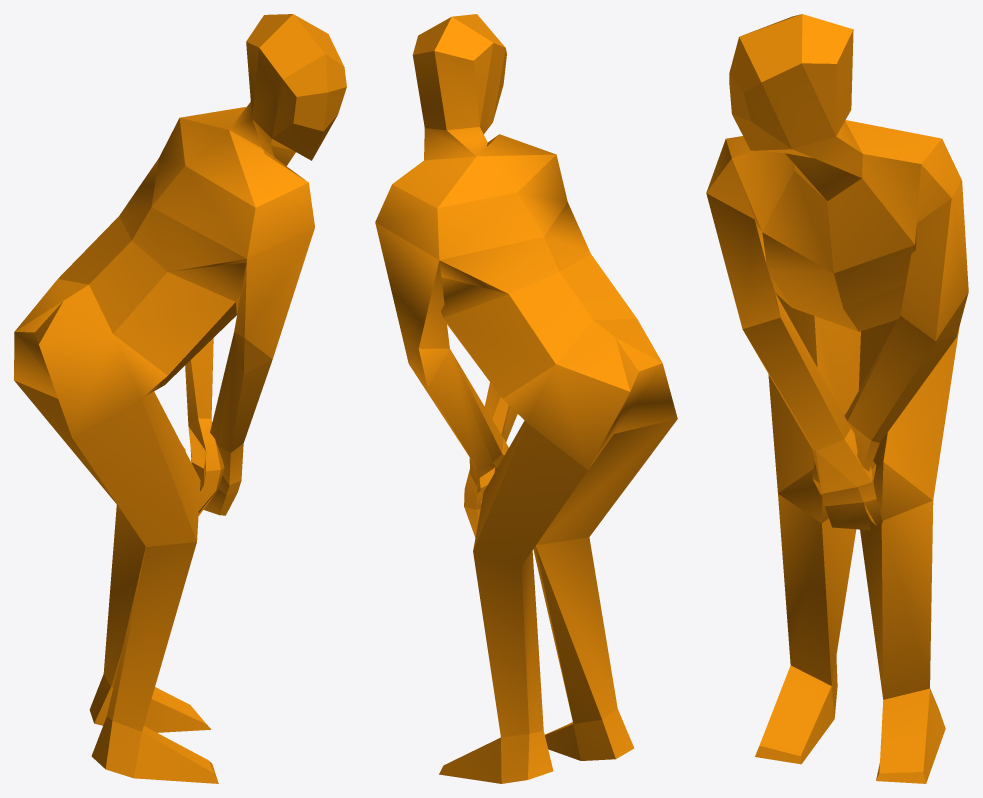
The model's file is Human03.fbx.
3 renders of one model, left to right at view 1: azimuth 30°, elevation 25°; view 2: azimuth 150°, elevation 25°; view 3: azimuth 270°, elevation 25°, orthographic. The views are drawn at different scales.
Parts seen in each view (by area): view 1: Human03; view 2: Human03; view 3: Human03.
Boxes of the visible parts, <box> form: Human03: <box>14,14,346,783</box>; Human03: <box>375,14,677,783</box>; Human03: <box>706,14,968,783</box>.
Size of the model in its own units: 61 by 157 by 47.08.
